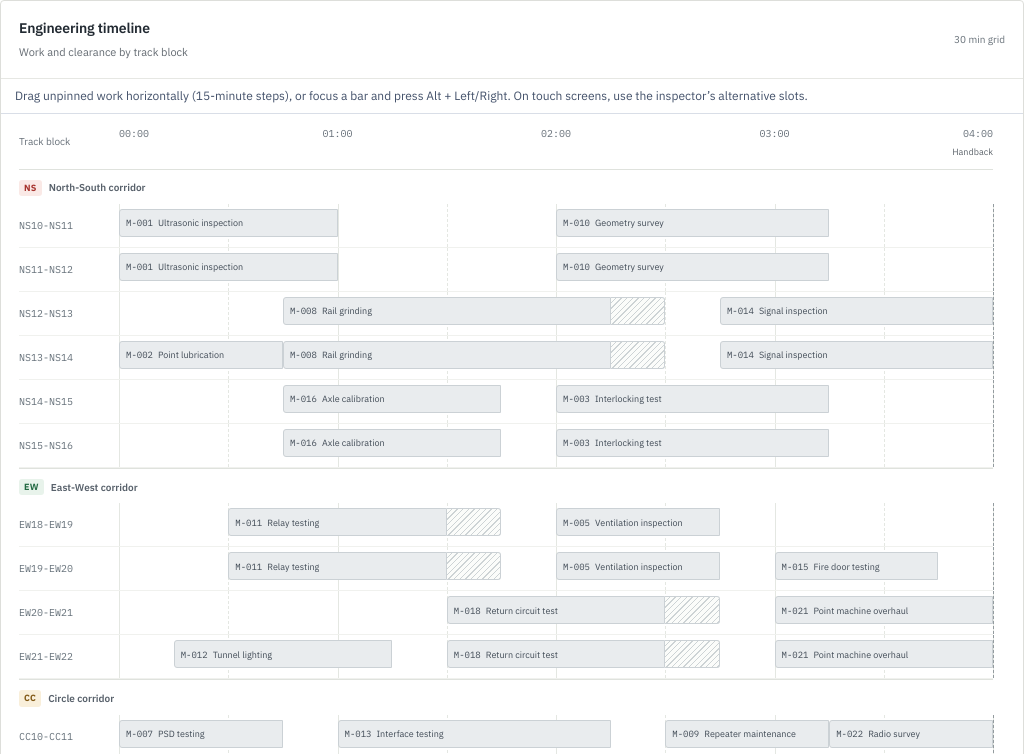
snaps pointer motion, previews linked bars and cancels with Escape without changing the plan
This screenshot has width=1024, height=754.
Press the mouse on the button with aria-label "Select M-001 on NS10-NS11" at point(228, 223), box [119,209,338,237]
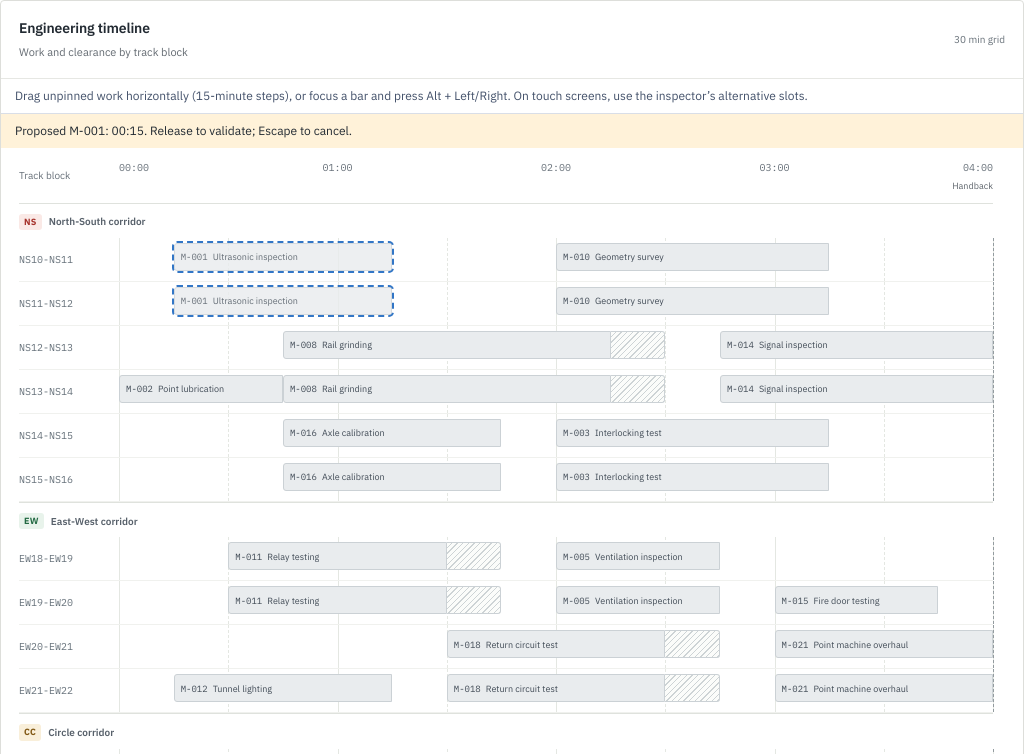
Press Escape in the button with aria-label "Select M-001 on NS10-NS11", box [174,243,392,271]
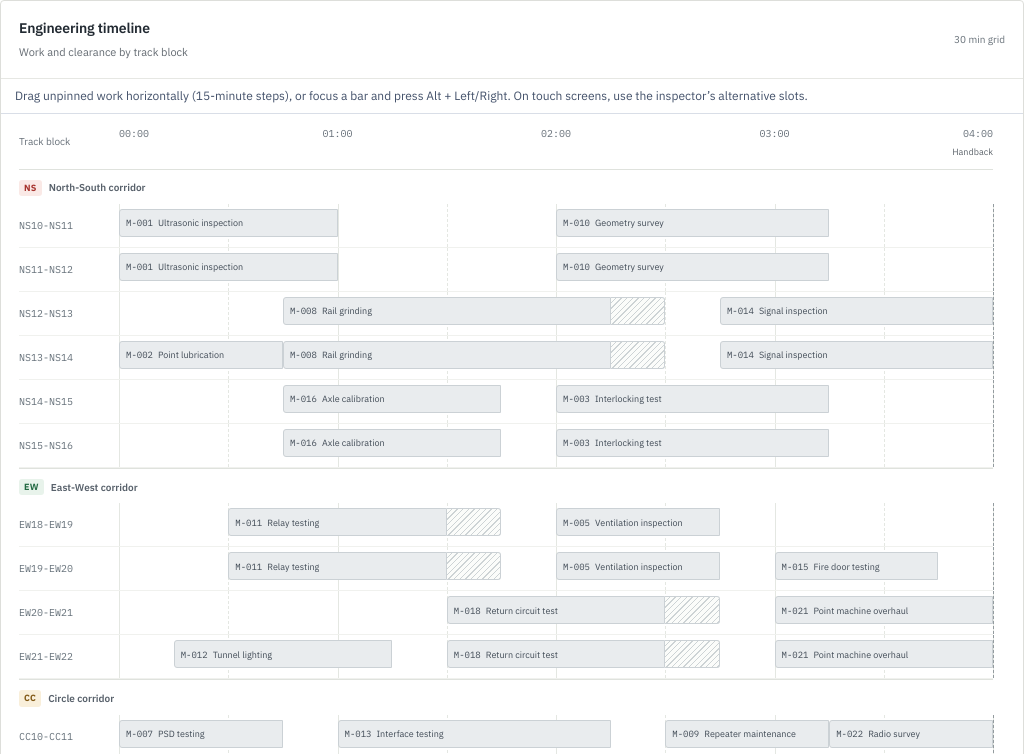
expect the button "Apply move" is not shown: met
Press the mouse on the button with aria-label "Select M-001 on NS10-NS11" at point(228, 223), box [119,209,338,237]
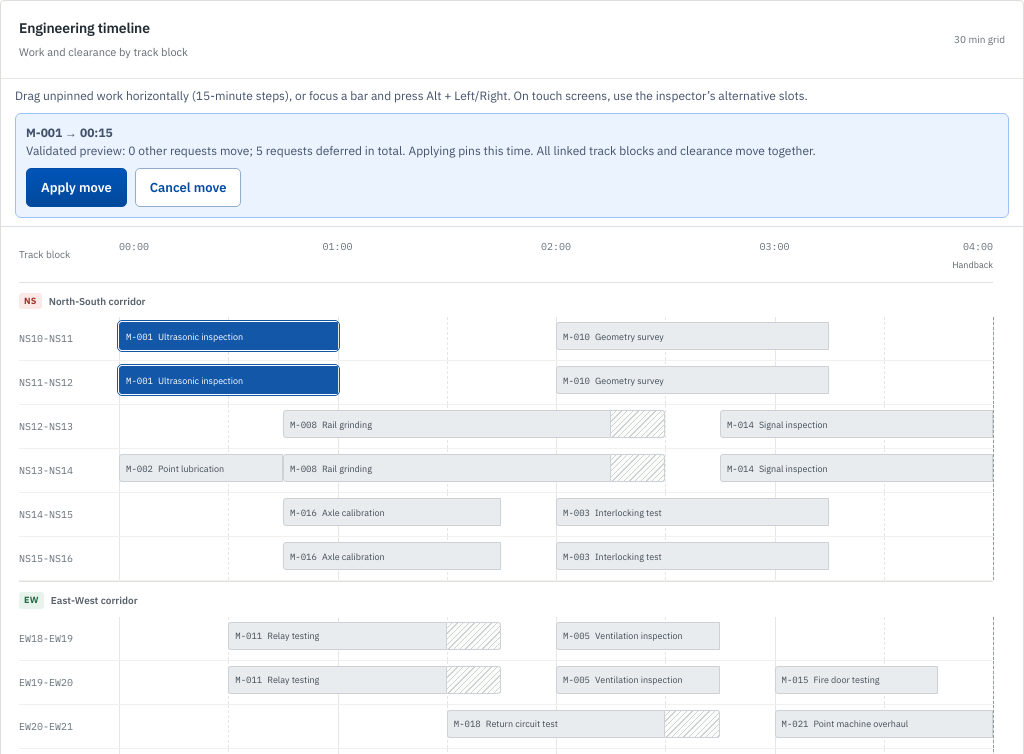
expect the button "Apply move" is enabled: met, box [26,168,127,207]
